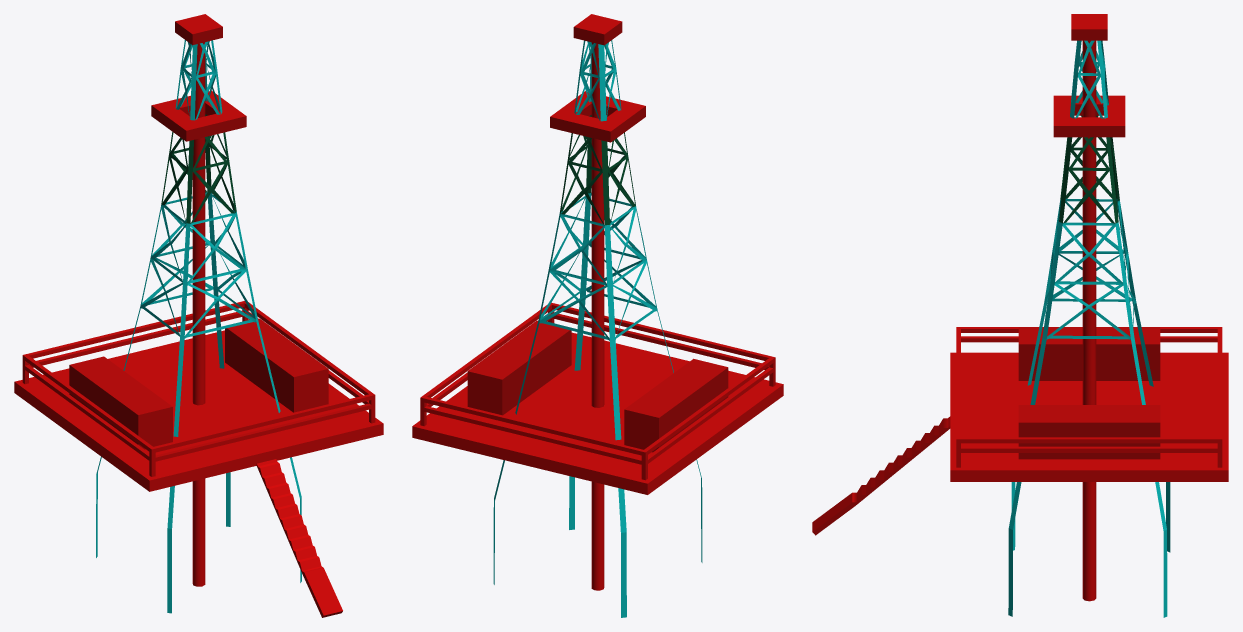
The model's file is buildings-industrial-onshoreoilrig_v1.fbx.
3 renders of one model, left to right at view 1: azimuth 30°, elevation 25°; view 2: azimuth 150°, elevation 25°; view 3: azimuth 270°, elevation 25°, orthographic. The views are drawn at different scales.
Parts seen in each view (by area): view 1: OnshoreOilRig_base, OnshoreOilRig_DblSided; view 2: OnshoreOilRig_base, OnshoreOilRig_DblSided; view 3: OnshoreOilRig_base, OnshoreOilRig_DblSided.
Boxes of the visible parts, box(x1,y1,x2,y2) form: OnshoreOilRig_base: box(14, 14, 383, 617); OnshoreOilRig_DblSided: box(96, 40, 301, 613); OnshoreOilRig_base: box(412, 14, 783, 590); OnshoreOilRig_DblSided: box(493, 40, 702, 617); OnshoreOilRig_base: box(812, 14, 1228, 601); OnshoreOilRig_DblSided: box(1008, 40, 1170, 617).
Bounding box in the file's own units: 34.55 × 79.01 × 51.67.
